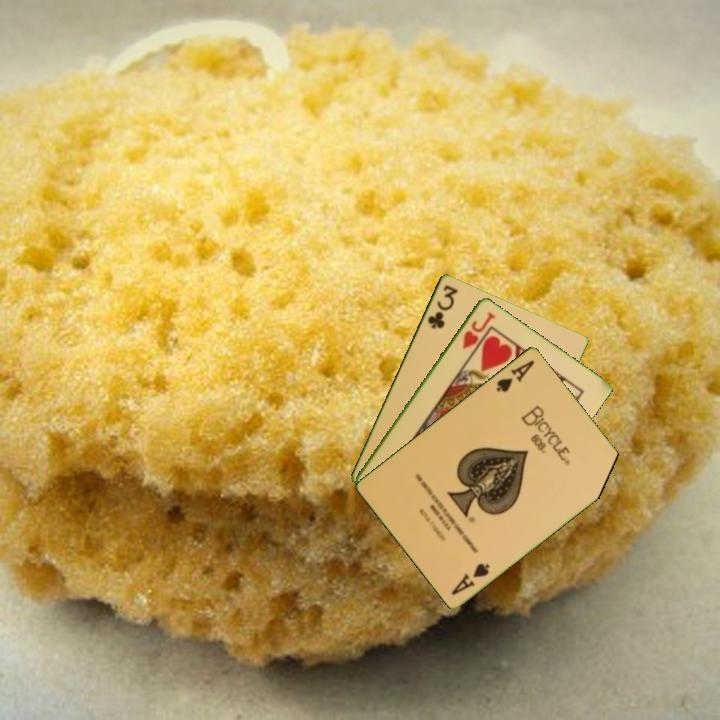3c: (424, 281, 460, 331)
As: (492, 356, 538, 395), (448, 559, 493, 598)
Jh: (458, 308, 498, 352)
